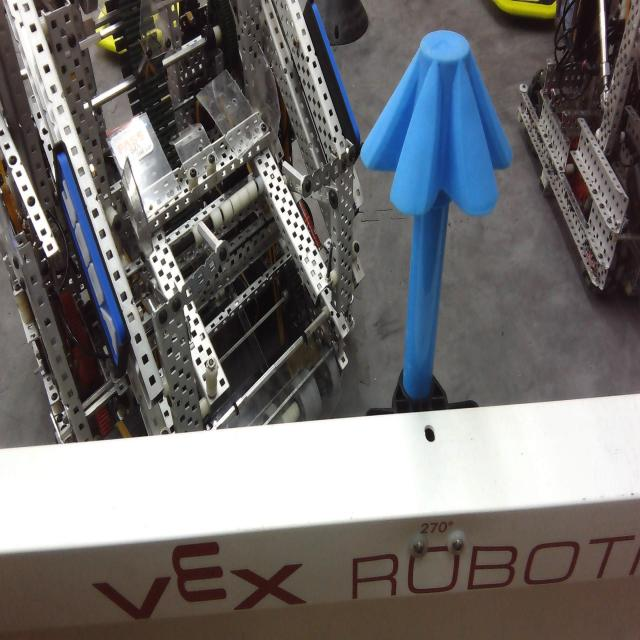zblue-Stake-Head: (361, 25, 514, 216)
